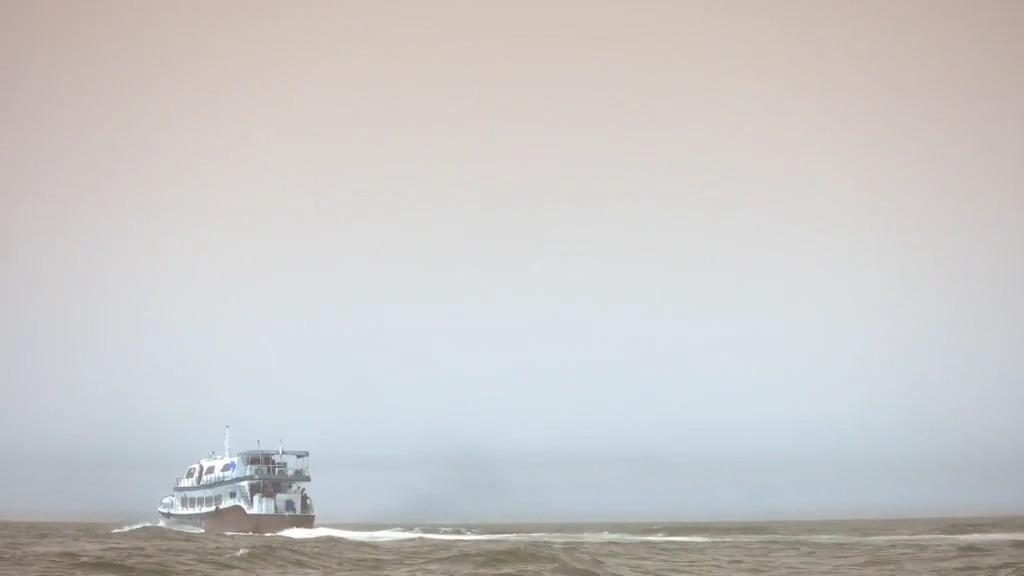PassengerShip: (152, 425, 324, 533)
